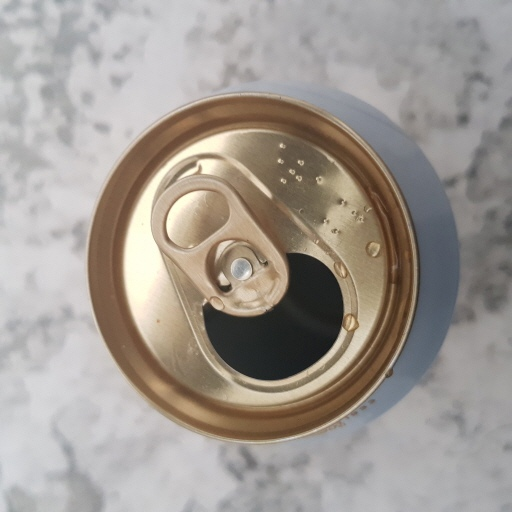Metal_0: (85, 79, 463, 446)
